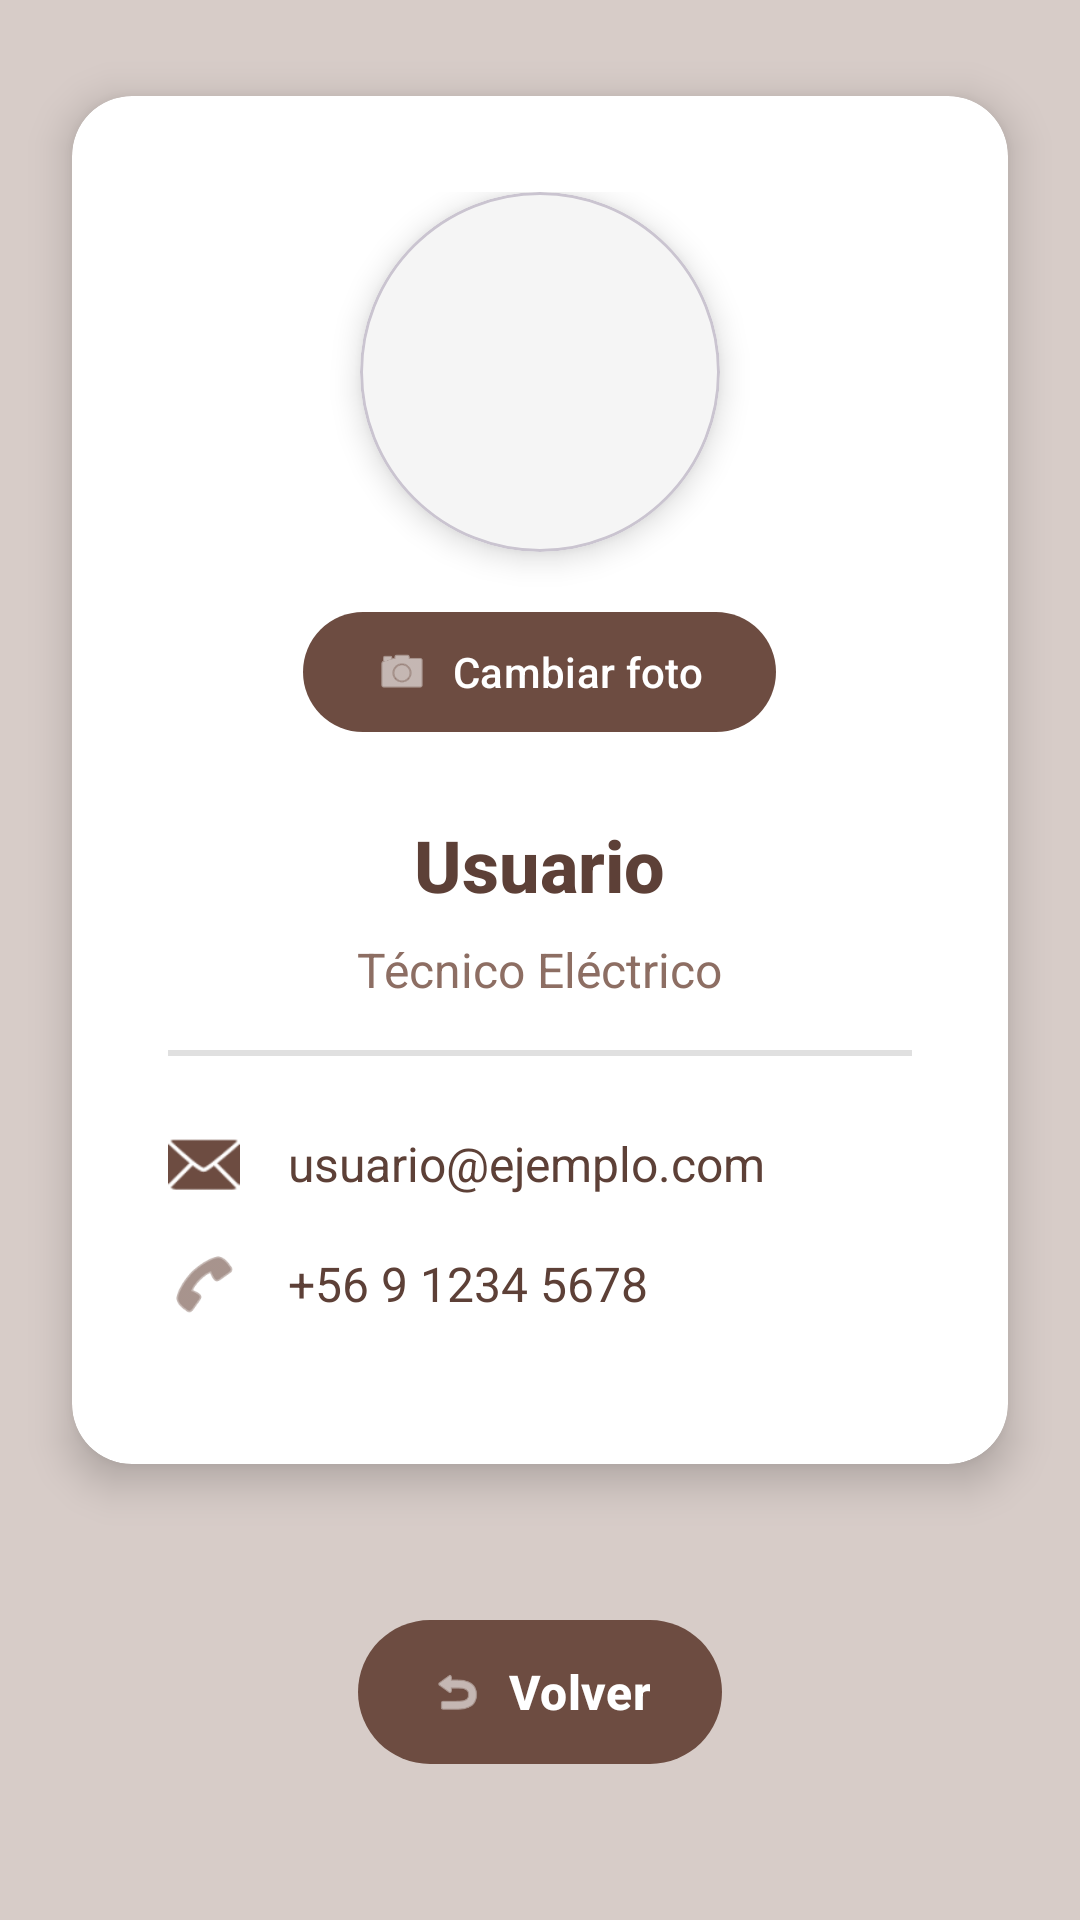

Screen size 1080*1920. Icon name, then its box in pixels as {"left": x1, "top": y1, "right": x2, "bottom": y2}:
call: {"left": 176, "top": 1256, "right": 232, "bottom": 1312}
email: {"left": 168, "top": 1139, "right": 240, "bottom": 1190}
